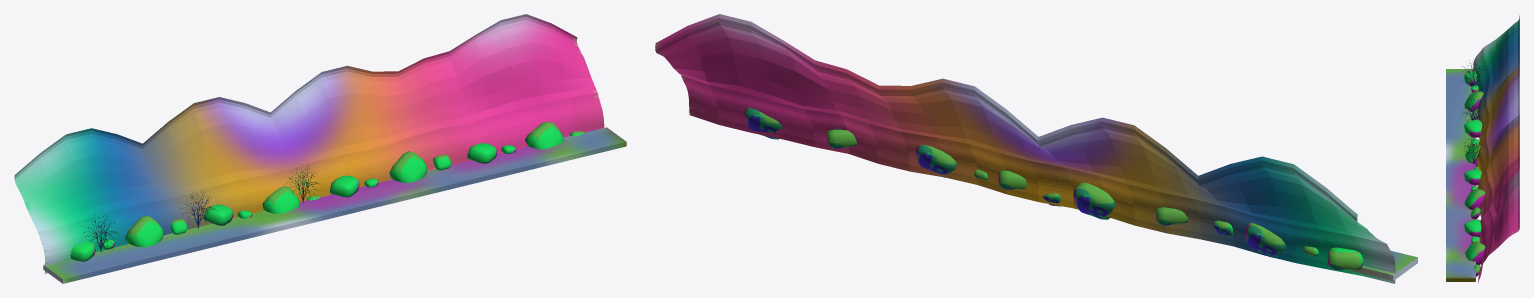
The model's file is dinosaur_env.glb.
The picture shows the model from 3 angles, left to right: view 1: azimuth 30°, elevation 25°; view 2: azimuth 150°, elevation 25°; view 3: azimuth 270°, elevation 25°; orthographic projection. The views are drawn at different scales.
Visible parts, largest first — view 1: 立方体.016, 立方体.017, 立方体.003, 立方体.011, 立方体.015, 立方体.007, 立方体.009, 立方体.005, 立方体.013, 立方体.001, tree, tree.001 (+1 smaller); view 2: 立方体.016, 立方体.007, 立方体.003, 立方体.011, 立方体.017, 立方体.001, 立方体.015, 立方体.013, 立方体.005; view 3: 立方体.016, 立方体.017, 立方体.015, 立方体.011, 立方体.005, 立方体.003, 立方体.013, 立方体.009, tree.002, 立方体.007, tree.001, tree (+2 smaller).
Boxes of the visible parts, <box> form: 立方体.016: <box>14,14,604,273</box>; 立方体.017: <box>43,127,626,283</box>; 立方体.003: <box>125,216,163,247</box>; 立方体.011: <box>389,151,427,182</box>; 立方体.015: <box>525,121,563,149</box>; 立方体.007: <box>262,186,299,213</box>; 立方体.009: <box>330,175,359,197</box>; 立方体.005: <box>203,204,233,225</box>; 立方体.013: <box>467,143,496,163</box>; 立方体.001: <box>70,241,95,261</box>; tree: <box>83,215,118,251</box>; tree.001: <box>180,189,217,228</box>; 立方体.016: <box>655,14,1395,283</box>; 立方体.007: <box>1073,182,1114,219</box>; 立方体.003: <box>1245,223,1285,257</box>; 立方体.011: <box>915,144,956,177</box>; 立方体.017: <box>1348,251,1417,280</box>; 立方体.001: <box>1327,247,1363,269</box>; 立方体.015: <box>744,108,782,139</box>; 立方体.013: <box>826,129,856,148</box>; 立方体.005: <box>1156,207,1188,225</box>; 立方体.016: <box>1473,15,1519,282</box>; 立方体.017: <box>1446,69,1475,281</box>; 立方体.015: <box>1465,241,1485,264</box>; 立方体.011: <box>1464,189,1484,209</box>; 立方体.005: <box>1464,119,1482,137</box>; 立方体.003: <box>1464,91,1483,111</box>; 立方体.013: <box>1464,219,1481,236</box>; 立方体.009: <box>1464,169,1481,185</box>; tree.002: <box>1464,137,1483,165</box>; 立方体.007: <box>1465,143,1480,166</box>; tree.001: <box>1463,98,1483,120</box>; tree: <box>1462,60,1484,85</box>.
Size of the model in its own units: 369 by 74.62 by 55.02.
5 materials, 5 textured.
